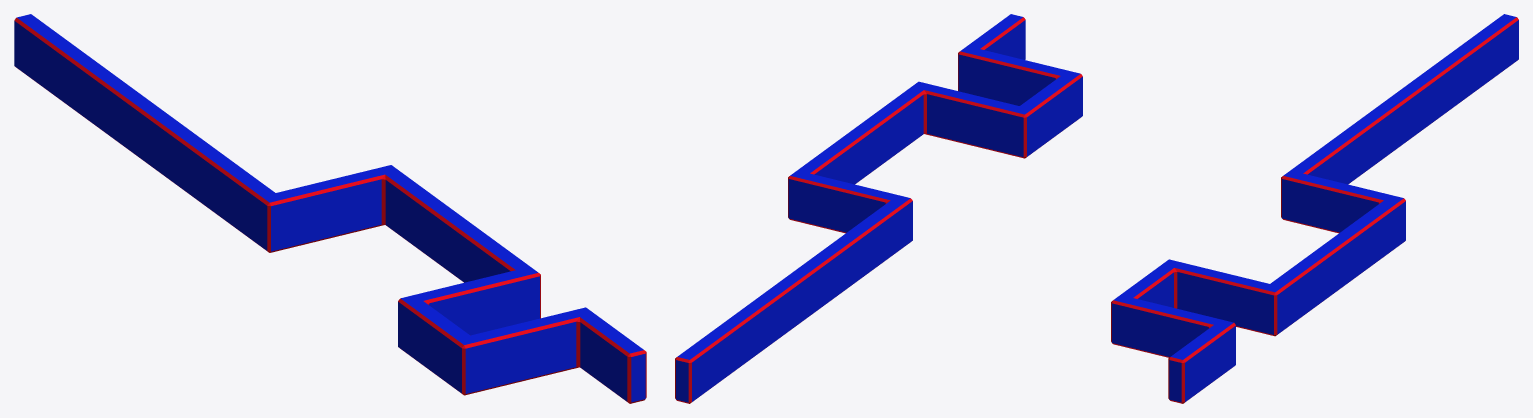
The model's file is L14_Square_Platform.fbx.
The picture shows the model from 3 angles, left to right: view 1: azimuth 30°, elevation 25°; view 2: azimuth 150°, elevation 25°; view 3: azimuth 330°, elevation 25°; orthographic projection. The views are drawn at different scales.
Visible parts, largest first — view 1: L14_Square_Platform; view 2: L14_Square_Platform; view 3: L14_Square_Platform.
Part boxes in pixels (x1,y1,x2,y2): L14_Square_Platform: [14, 14, 646, 403]; L14_Square_Platform: [675, 14, 1082, 403]; L14_Square_Platform: [1111, 14, 1518, 403].
Size of the model in its own units: 280 by 100 by 1800.
